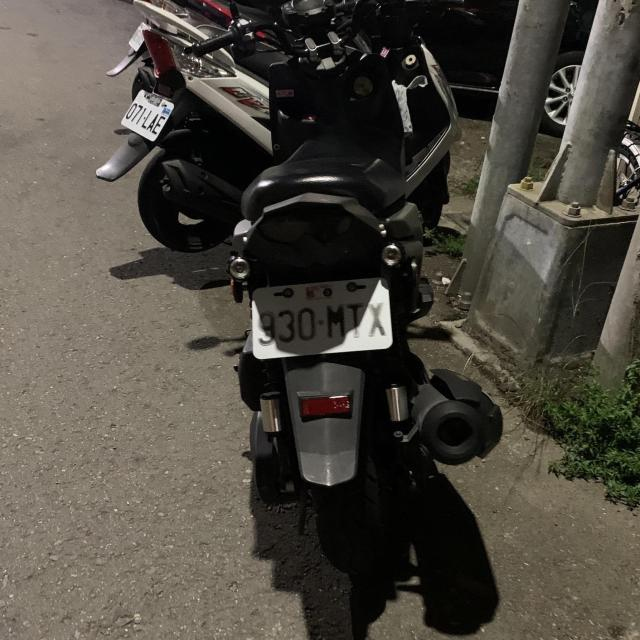W: (240, 274, 401, 364), (115, 81, 183, 150)
